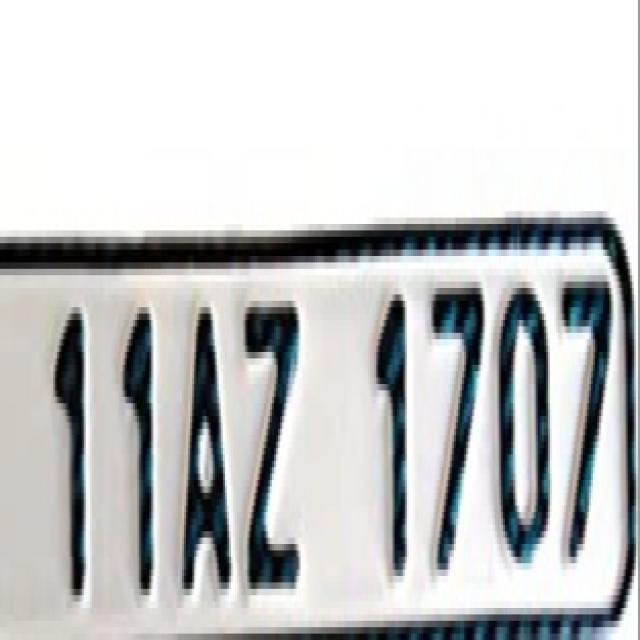0: (493, 278, 554, 575)
1: (366, 260, 414, 610), (46, 280, 95, 612), (118, 288, 166, 614)
7: (552, 248, 616, 580), (427, 256, 488, 588)
A: (181, 294, 240, 640)
Z: (240, 283, 308, 622)
